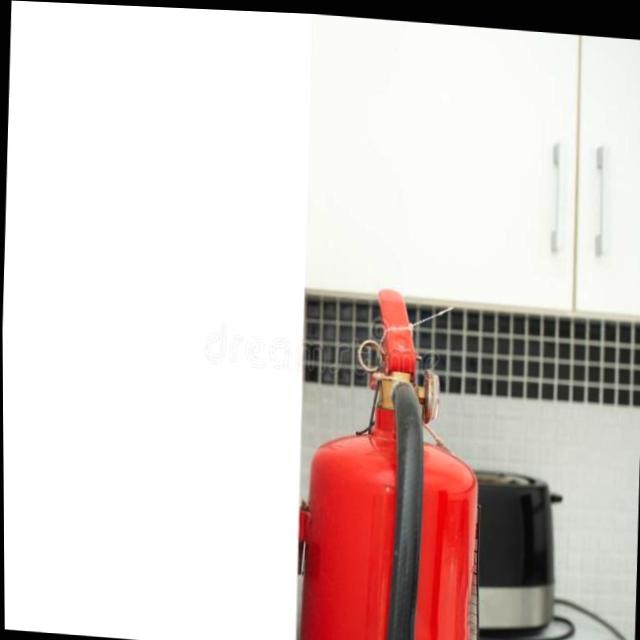FireExtinguisher: (281, 265, 493, 640)
